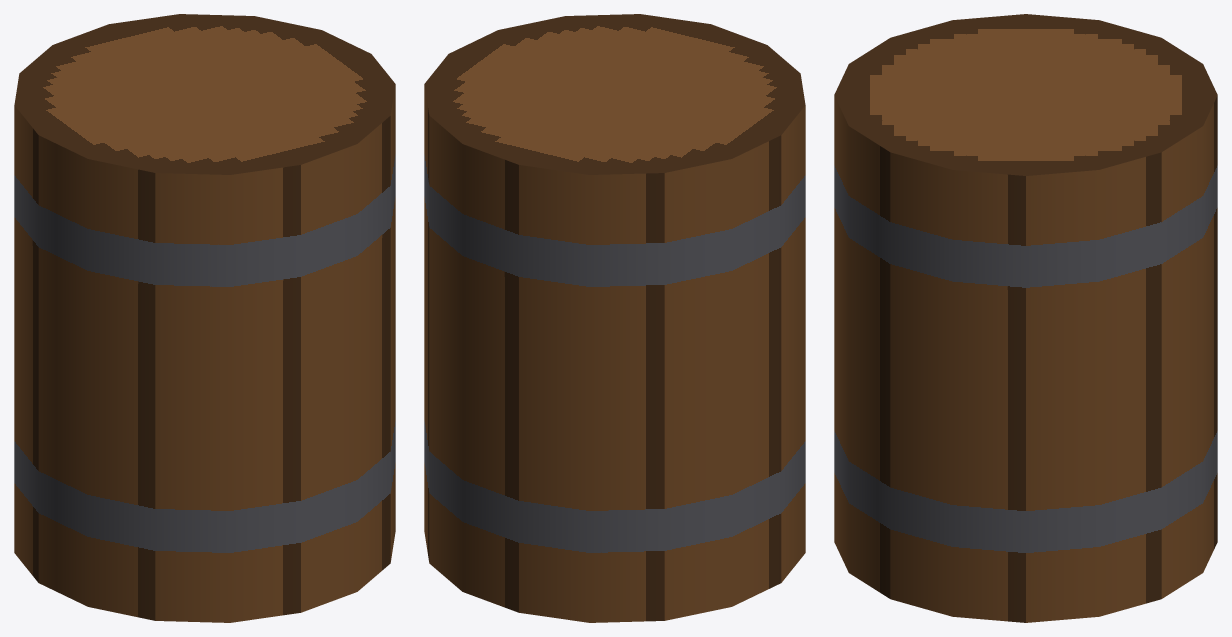
The model's file is barrel.glb.
The picture shows the model from 3 angles, left to right: view 1: azimuth 30°, elevation 25°; view 2: azimuth 150°, elevation 25°; view 3: azimuth 270°, elevation 25°; orthographic projection.
Bounding box in the file's own units: 0.7 × 0.9 × 0.7.
2 materials, 2 textured.
